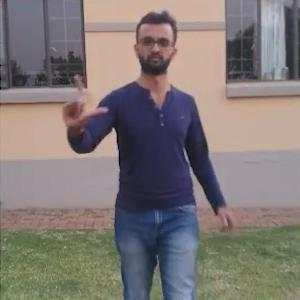land_hand: (56, 71, 111, 128)
